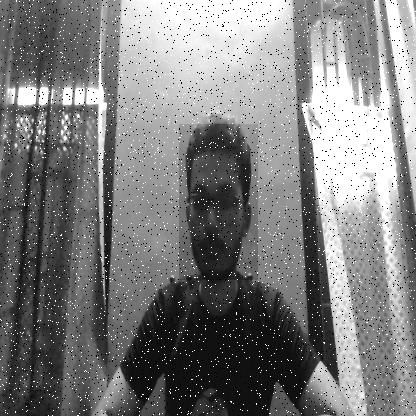Normal: (179, 124, 258, 280)
